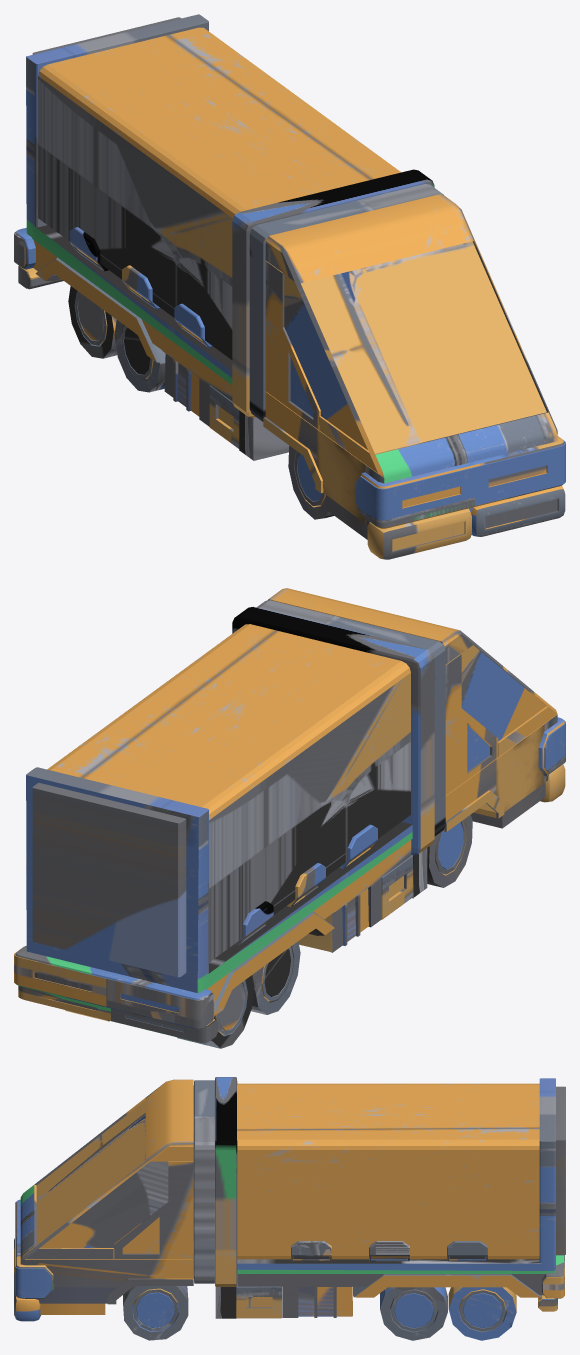
The model's file is CamienV2.fbx.
3 views of the same model, one above another, from view 1: azimuth 30°, elevation 25°; view 2: azimuth 150°, elevation 25°; view 3: azimuth 270°, elevation 25° (orthographic). The views are drawn at different scales.
Parts seen in each view (by area): view 1: Cube.013, Cube.001, Cube.003, Cube.002; view 2: Cube.013, Cube.003, Cube.002, Cube.001; view 3: Cube.013, Cube.001, Cube.003, Cube.002.
Part boxes in pixels (x1,y1,x2,y2): Cube.013: (14, 14, 565, 559); Cube.001: (68, 286, 117, 358); Cube.003: (114, 320, 165, 392); Cube.002: (288, 446, 333, 519); Cube.013: (14, 588, 565, 1042); Cube.003: (251, 941, 300, 1014); Cube.002: (427, 815, 472, 887); Cube.001: (65, 975, 254, 1048); Cube.013: (14, 1077, 565, 1321); Cube.001: (448, 1287, 516, 1340); Cube.003: (380, 1287, 447, 1340); Cube.002: (123, 1286, 188, 1340).
Size of the model in its own units: 266 by 361 by 900.
